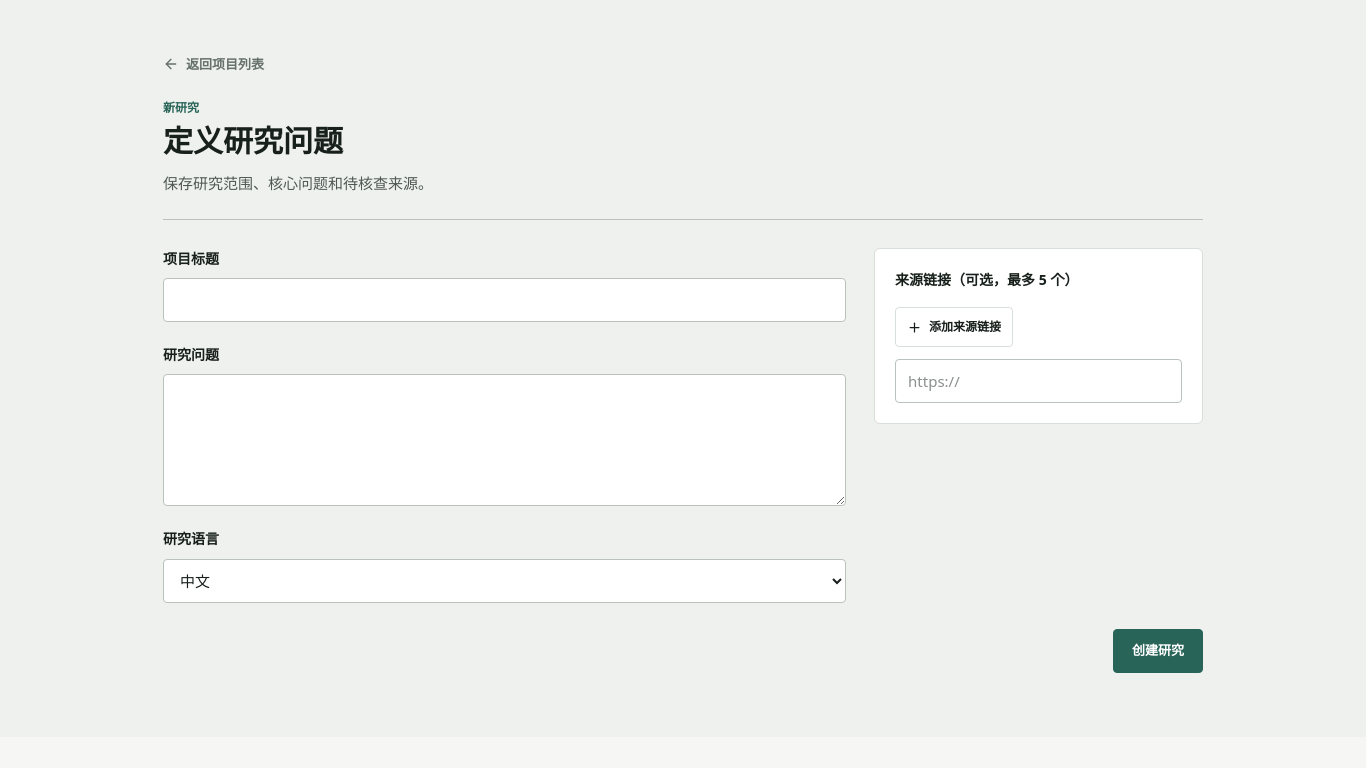
it: managed project workspace UI › preserves the research draft after ACTIVE_RESEARCH_RUN_EXISTS
The width and height of the screenshot is (1366, 768).
Type "可恢复研究" into the field labelled "项目标题". click: (505, 300)
box: [163,278,846,322]
Type "失败后是否保留完整输入？" into the text box labelled "研究问题". click: (505, 440)
box: [163,374,846,506]
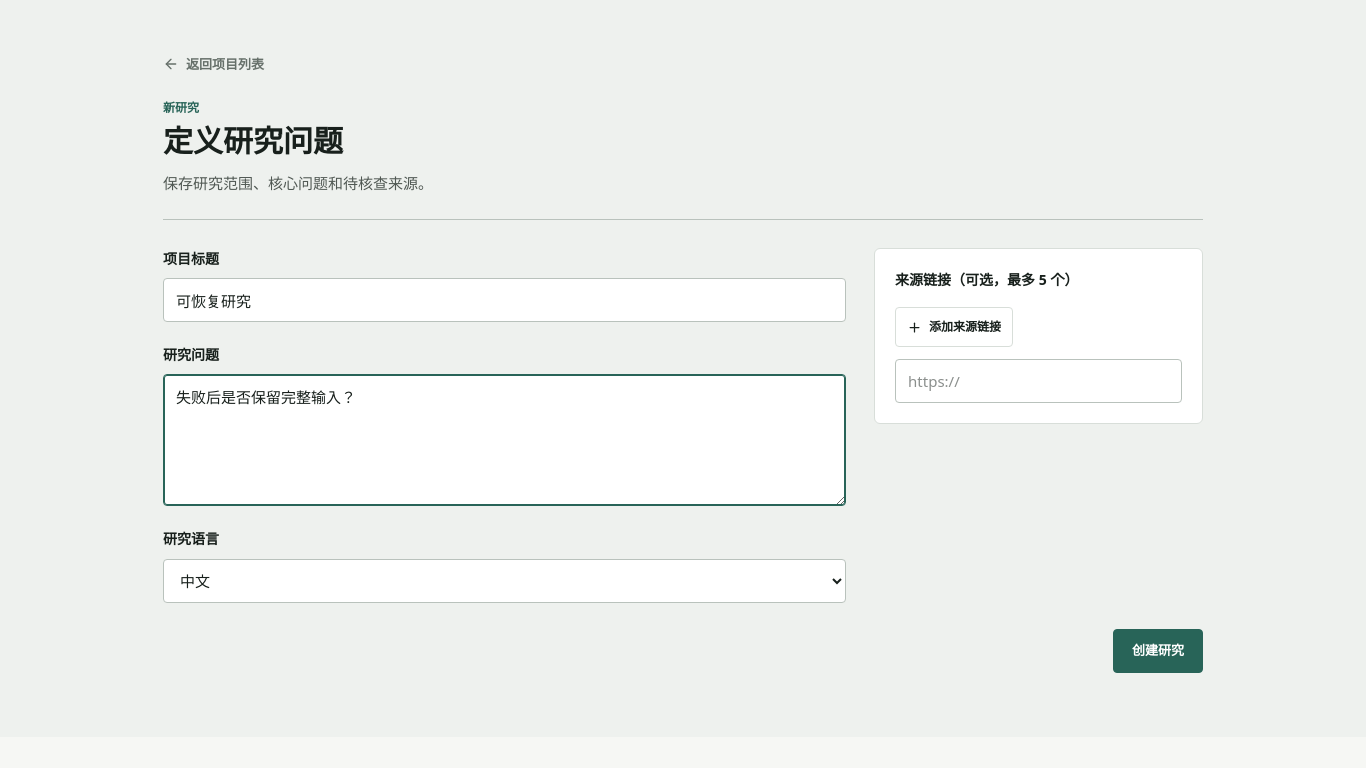
Select "英文" in the dropdown labelled "研究语言". click: (505, 581)
box: [163,559,846,603]
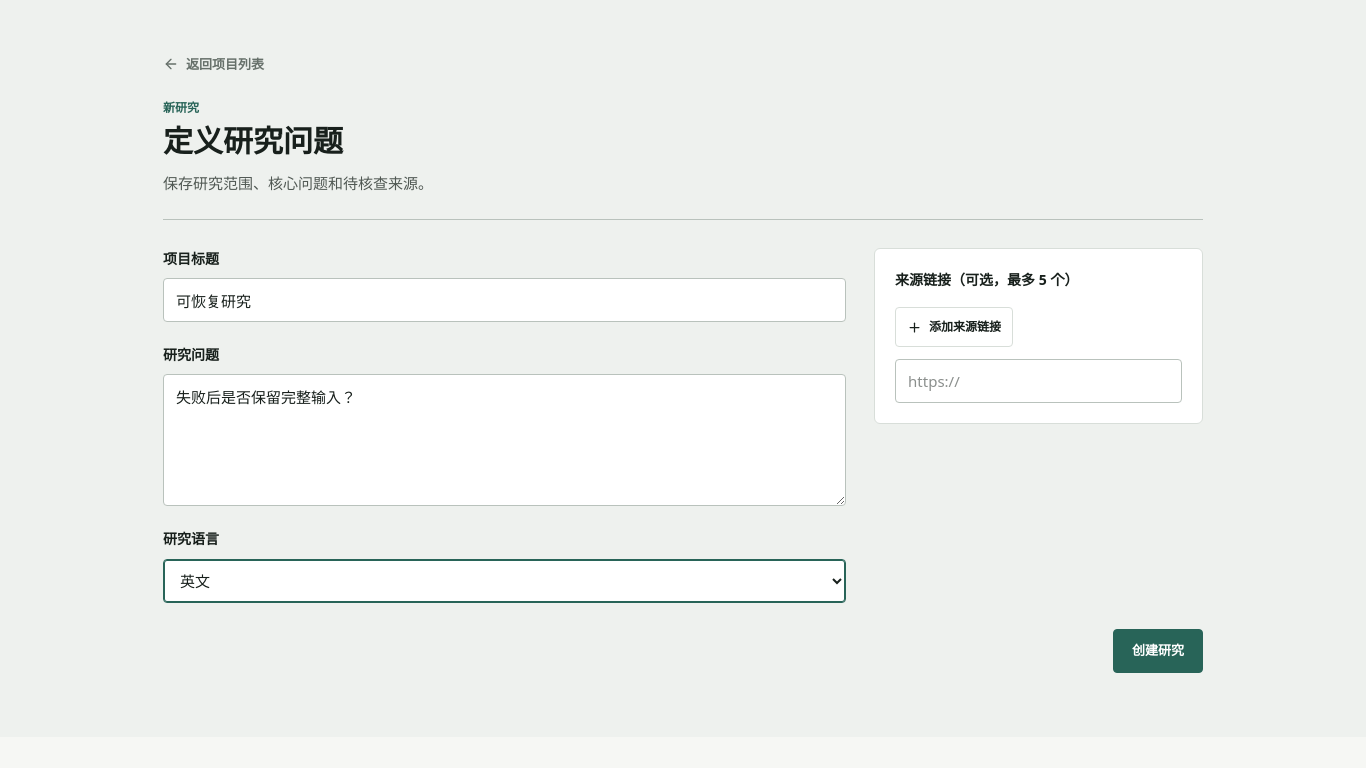
Type "https://example.com/a" into the field named "来源链接 1". click: (1039, 381)
box: [895,359,1182,403]
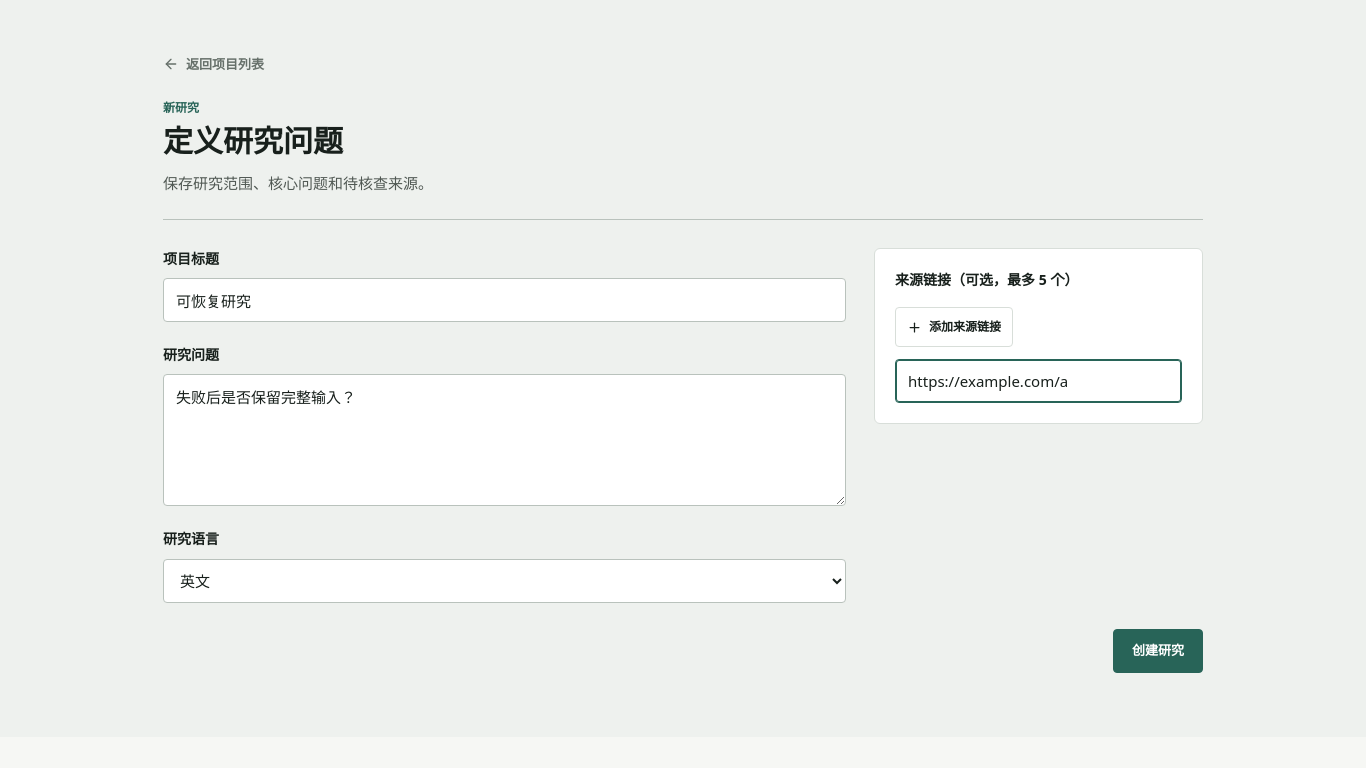
Click the button "添加来源链接". click: (954, 327)
box: [895,307,1013,347]
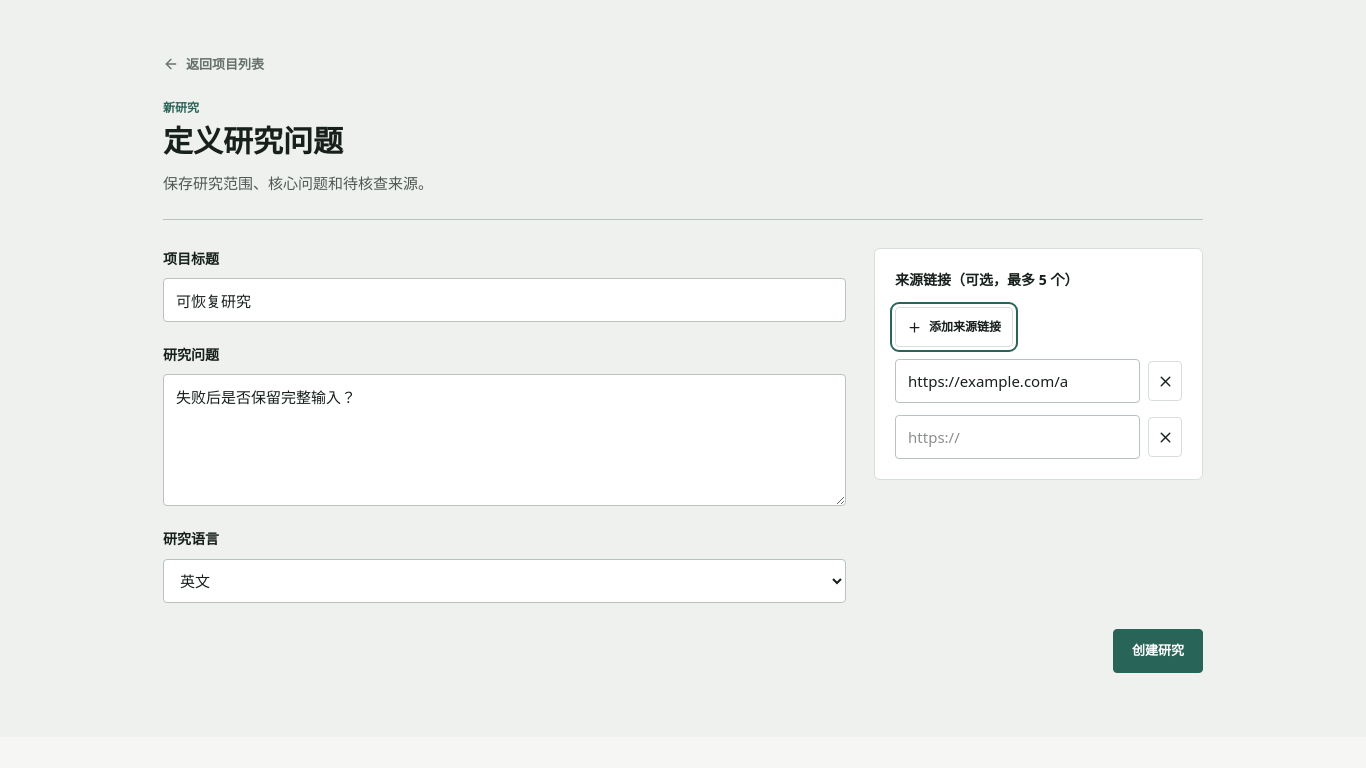
Type "https://example.com/b" into the field named "来源链接 2". click: (1018, 437)
box: [895,415,1140,459]
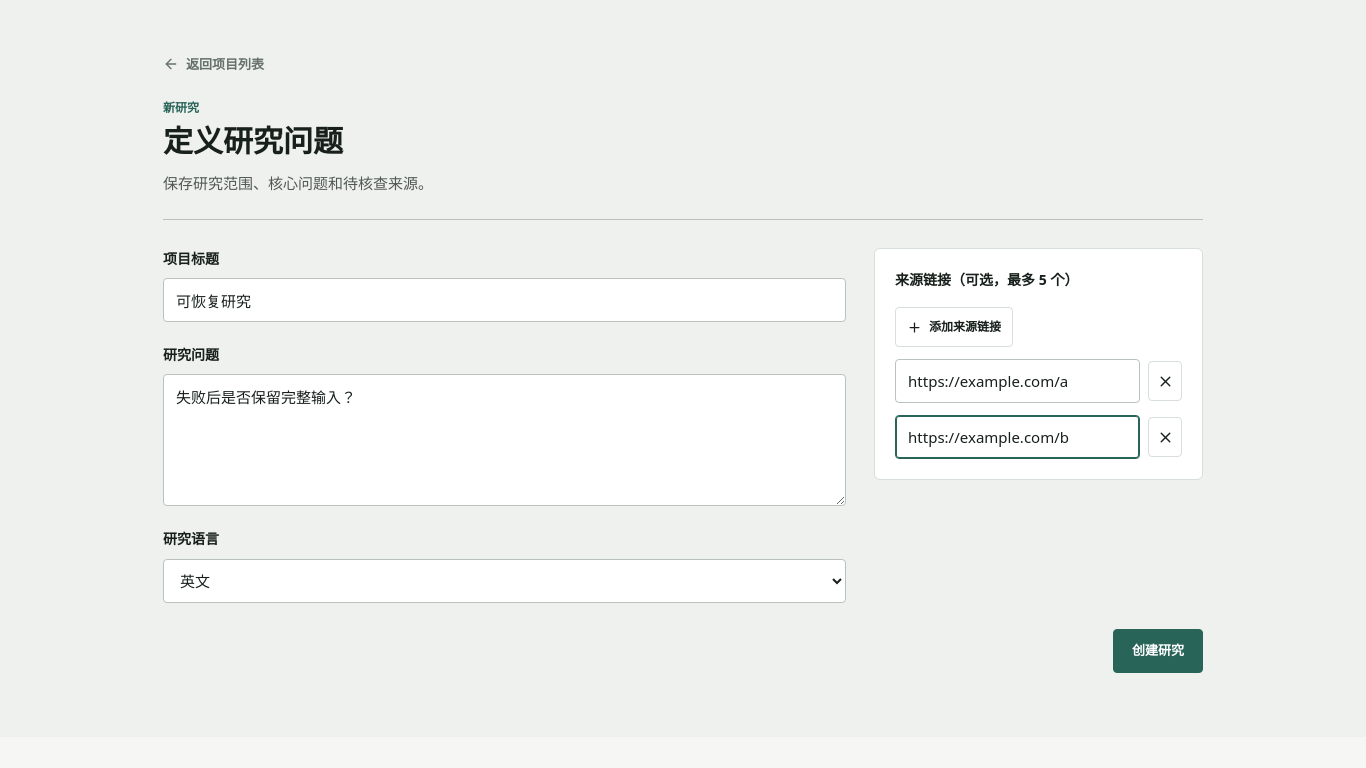
Click the button "创建研究". click: (1158, 651)
box: [1113,629,1203,673]
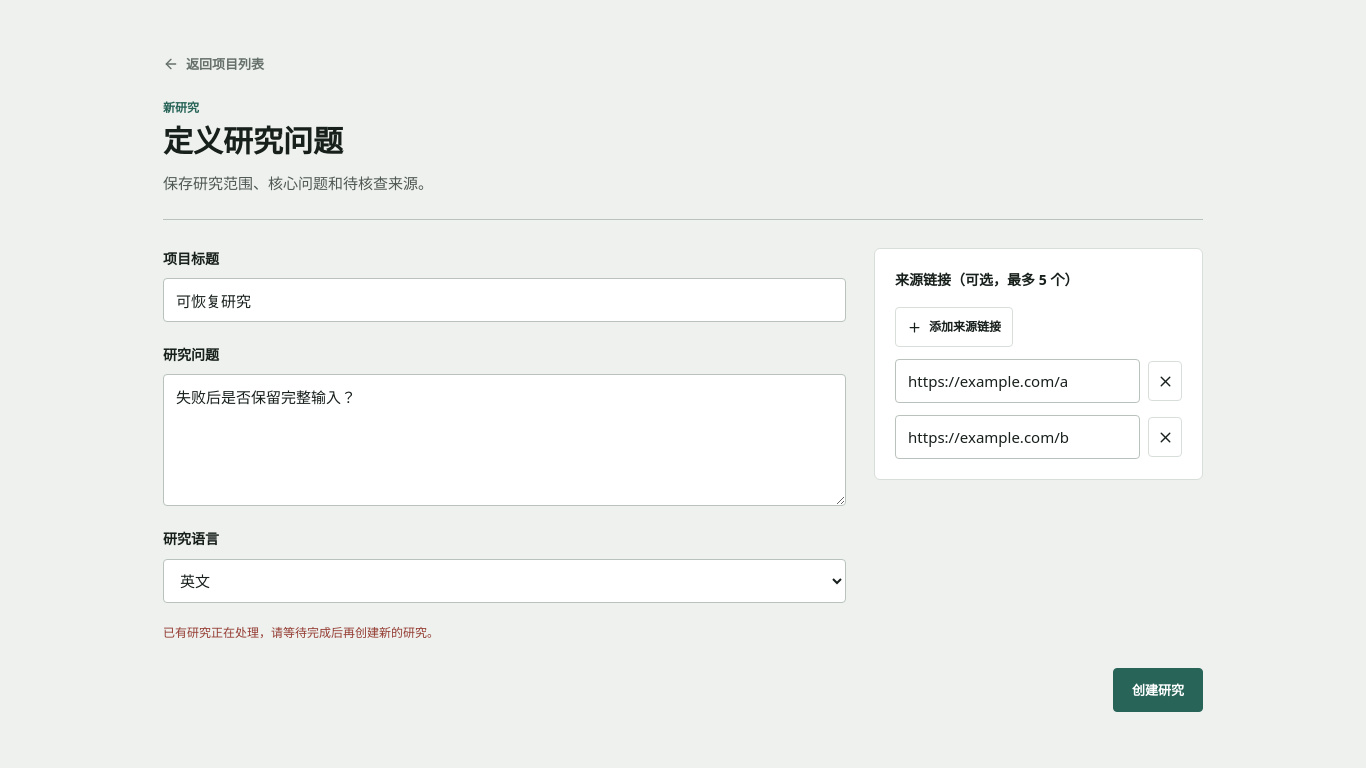
Expected: the message "已有研究正在处理，请等待完成后再创建新的研究。" is shown, [163,624,439,641]
